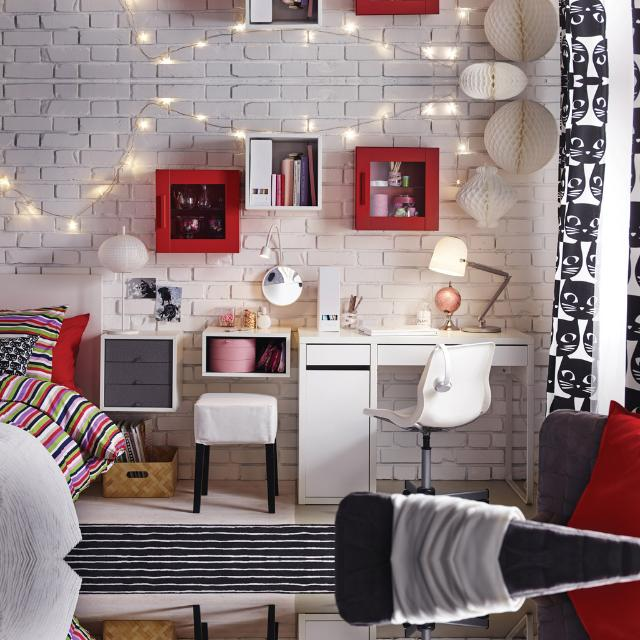armchair: (335, 410, 640, 558), (335, 559, 640, 640)
bed: (0, 274, 125, 557), (0, 561, 95, 640)
chair: (364, 341, 495, 495), (450, 489, 489, 502), (450, 616, 489, 629)
curtain: (546, 80, 608, 412), (625, 80, 640, 412), (558, 0, 608, 80)
lamp: (429, 238, 510, 332)
pillow: (568, 400, 640, 537), (568, 581, 640, 640)
rug: (66, 524, 335, 558), (66, 560, 335, 594)
stool: (194, 392, 279, 512)
table: (298, 328, 534, 504)
